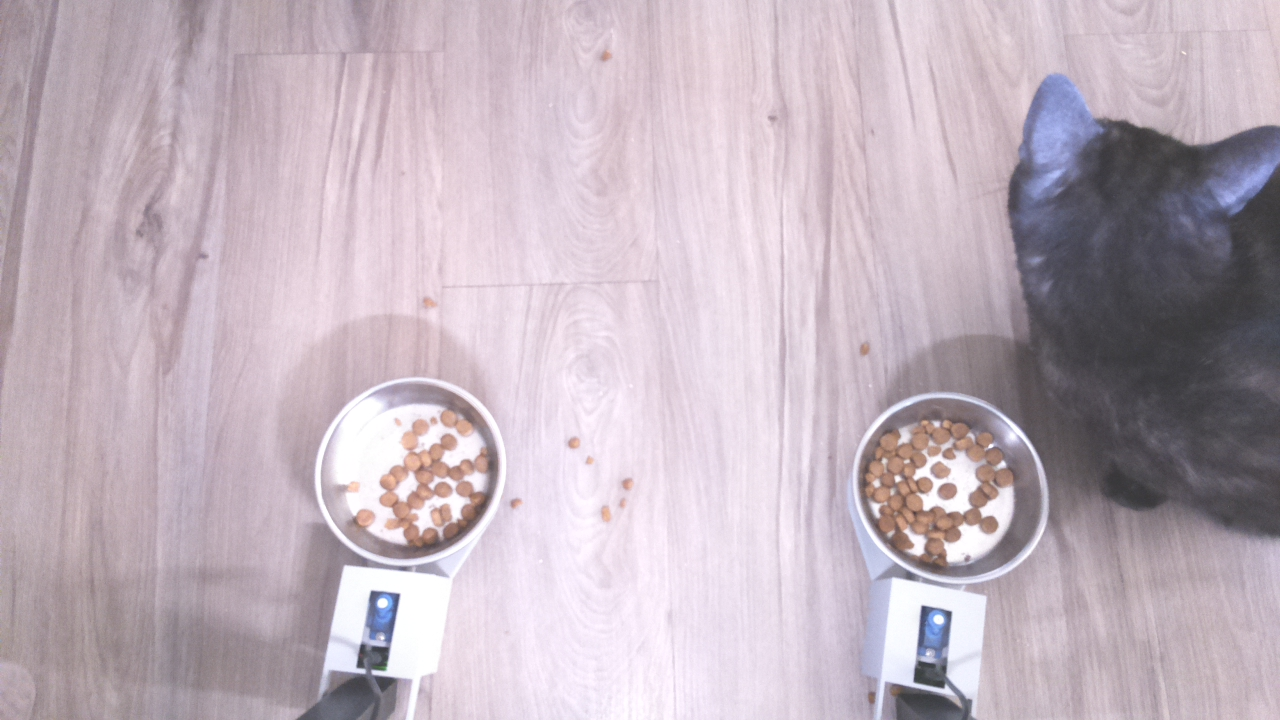open_bowl: (848, 387, 1052, 590), (315, 372, 512, 570)
saki: (1000, 69, 1280, 397)
